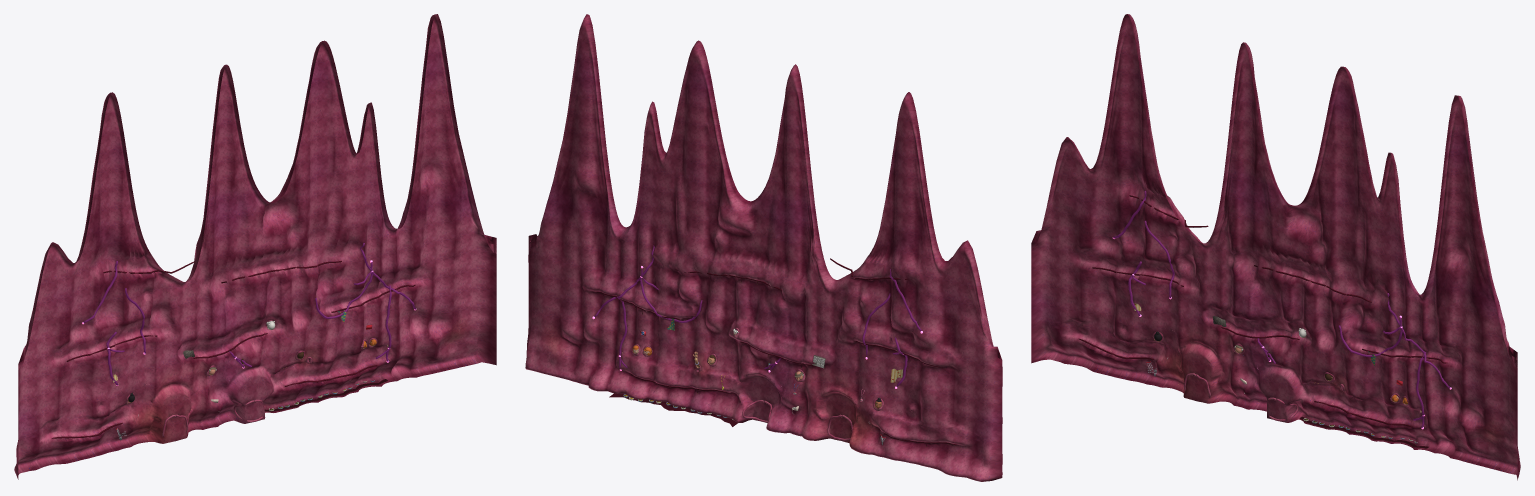
The model's file is s_digester_wall.glb.
The picture shows the model from 3 angles, left to right: view 1: azimuth 30°, elevation 25°; view 2: azimuth 150°, elevation 25°; view 3: azimuth 330°, elevation 25°; orthographic projection. The views are drawn at different scales.
Parts seen in each view (by area): view 1: dw_flesh_pulse, dw_vein_flesh, dw_wet_flesh, dw_bits, dw_rim; view 2: dw_flesh_pulse, dw_vein_flesh, dw_bits, dw_wet_flesh, dw_rim; view 3: dw_flesh_pulse, dw_vein_flesh, dw_wet_flesh, dw_bits, dw_rim.
Part boxes in pixels (x1,y1,x2,y2): dw_flesh_pulse: [14, 14, 496, 479]; dw_vein_flesh: [83, 242, 415, 385]; dw_wet_flesh: [52, 261, 415, 438]; dw_bits: [113, 311, 388, 440]; dw_rim: [126, 320, 377, 437]; dw_flesh_pulse: [525, 14, 1002, 481]; dw_vein_flesh: [594, 245, 921, 386]; dw_bits: [609, 278, 948, 446]; dw_wet_flesh: [596, 258, 956, 445]; dw_rim: [632, 328, 883, 440]; dw_flesh_pulse: [1031, 14, 1520, 480]; dw_vein_flesh: [1113, 190, 1450, 427]; dw_wet_flesh: [1079, 195, 1447, 426]; dw_bits: [1134, 303, 1428, 448]; dw_rim: [1152, 327, 1409, 421].
Size of what is drawn, in the model's own units: 21.1 by 15.46 by 1.42.
Materials: 7 (4 with a texture image).
